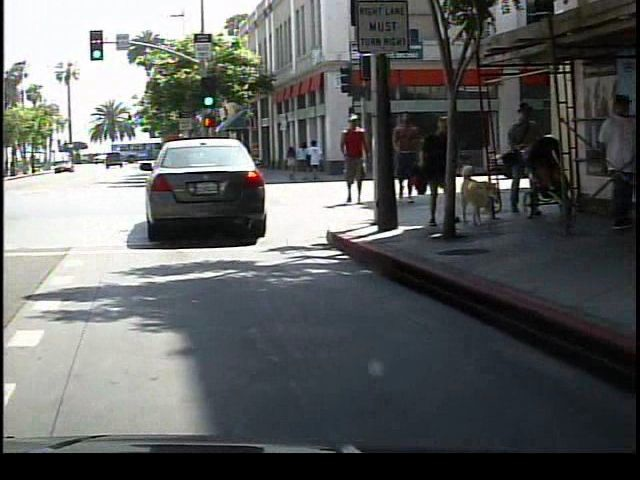person: (337, 111, 377, 210), (390, 107, 422, 208)
